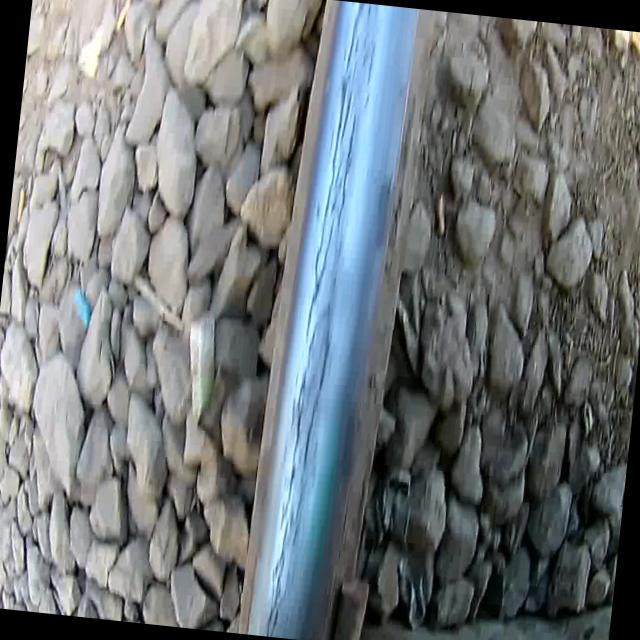Cracks: (257, 0, 382, 640)
